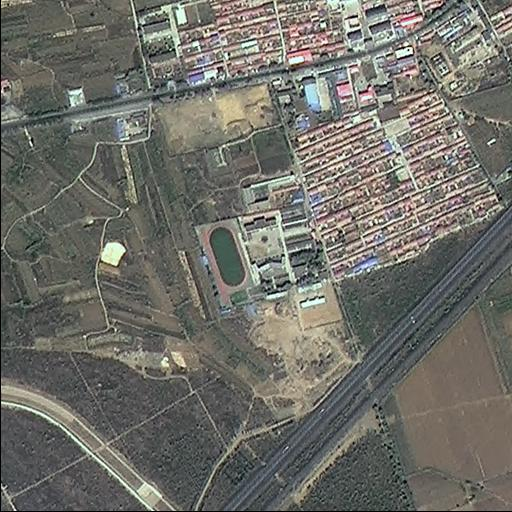school: (191, 200, 330, 311)
